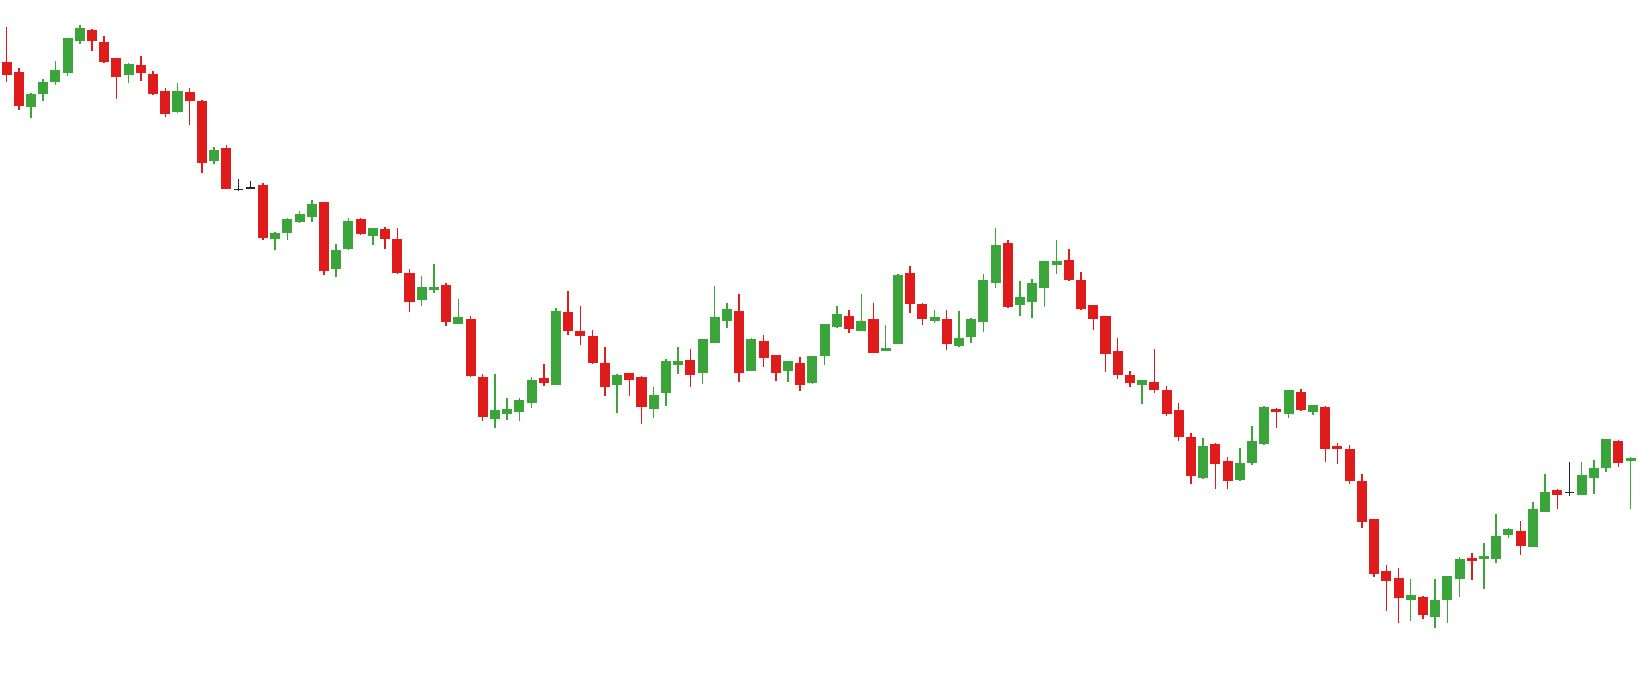sell: (891, 224, 1016, 321)
